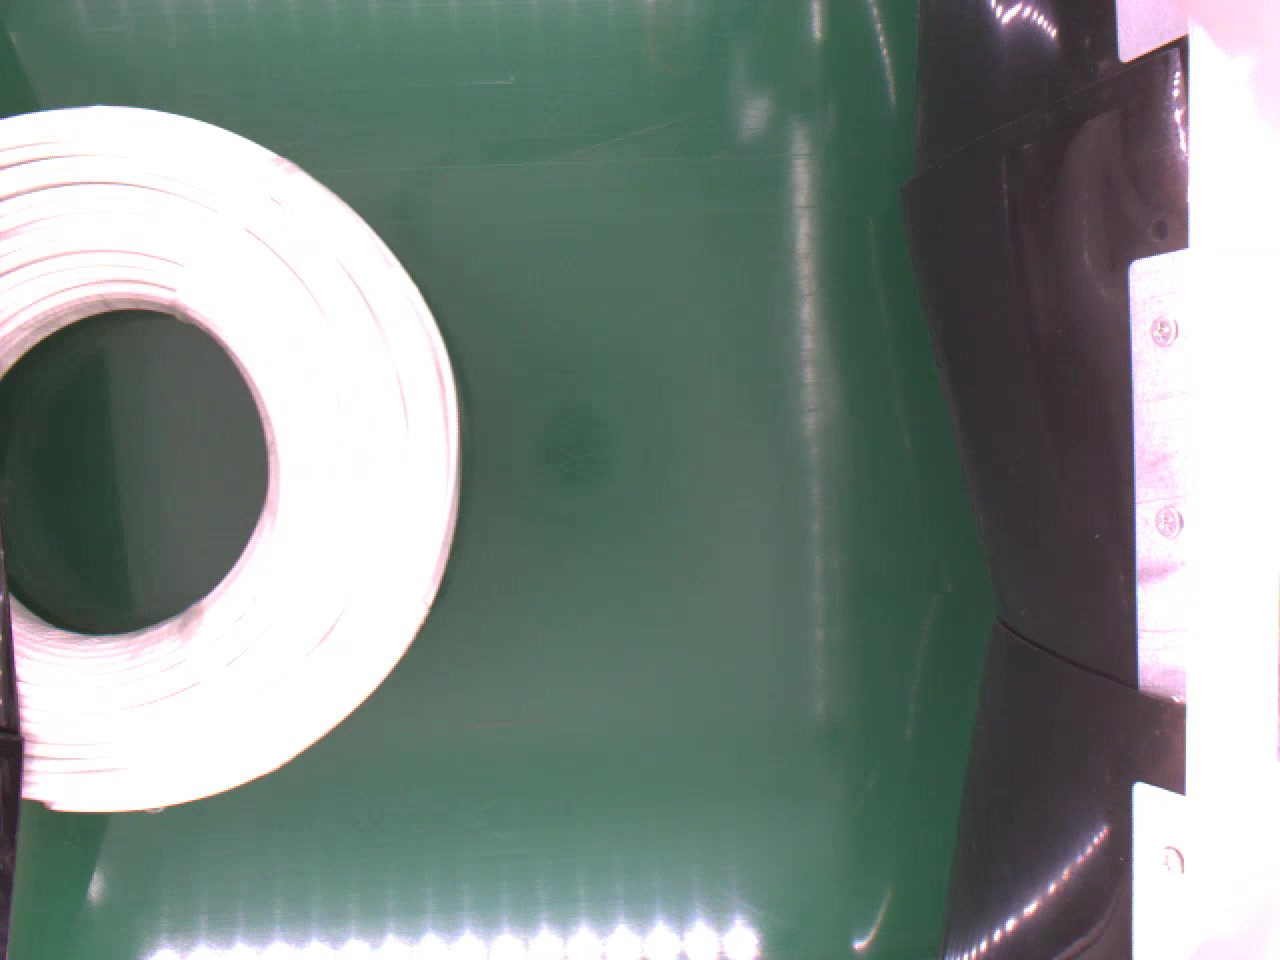white: (0, 100, 458, 809)
